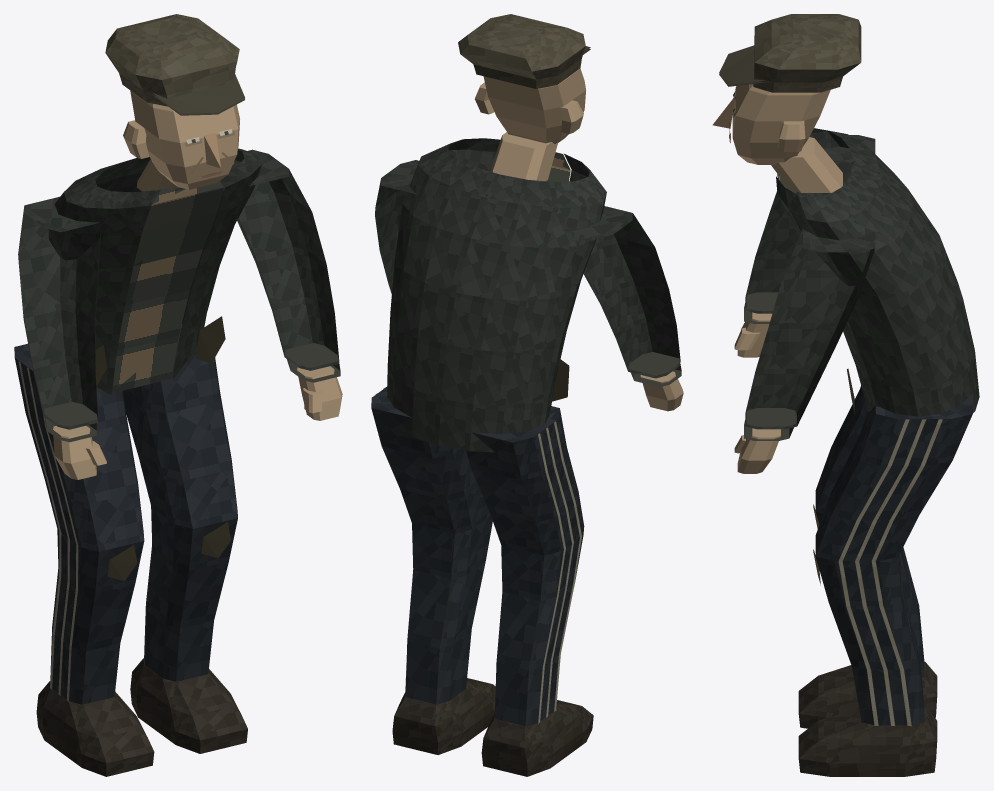
File: vladimir.glb
3 renders of one model, left to right at view 1: azimuth 30°, elevation 25°; view 2: azimuth 150°, elevation 25°; view 3: azimuth 270°, elevation 25°, orthographic. The views are drawn at different scales.
Parts seen in each view (by area): view 1: Elderly_87_Hunched; view 2: Elderly_87_Hunched; view 3: Elderly_87_Hunched.
Boxes of the visible parts, bbox=[...] form: Elderly_87_Hunched: bbox=[14, 14, 342, 776]; Elderly_87_Hunched: bbox=[371, 14, 683, 776]; Elderly_87_Hunched: bbox=[712, 14, 979, 776].
Size of the model in its own units: 0.626 by 1.51 by 0.517.
1 material, 1 textured.
